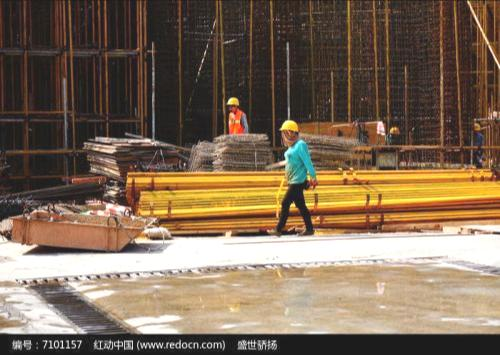person: (272, 120, 321, 234), (222, 93, 251, 133), (466, 117, 487, 169), (387, 125, 409, 167)
